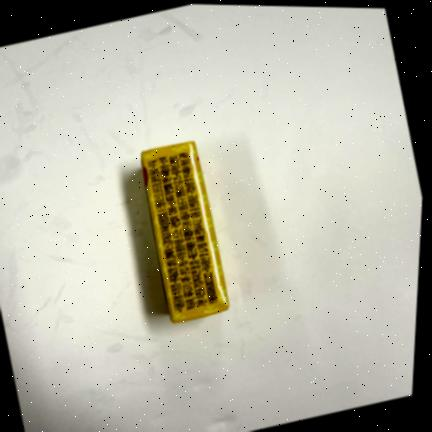gum_yellow: (141, 141, 229, 323)
